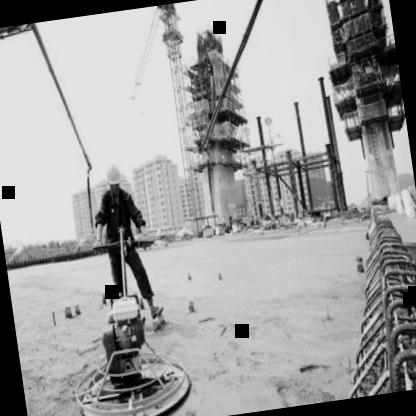helmet: (102, 160, 124, 196)
